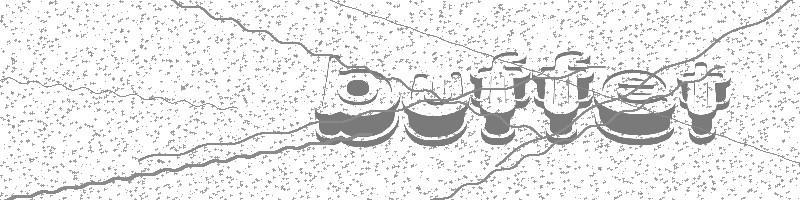b: (311, 50, 401, 150)
e: (597, 62, 676, 146)
f: (469, 51, 537, 145), (536, 46, 599, 147)
t: (675, 63, 736, 144)
u: (404, 63, 468, 147)
